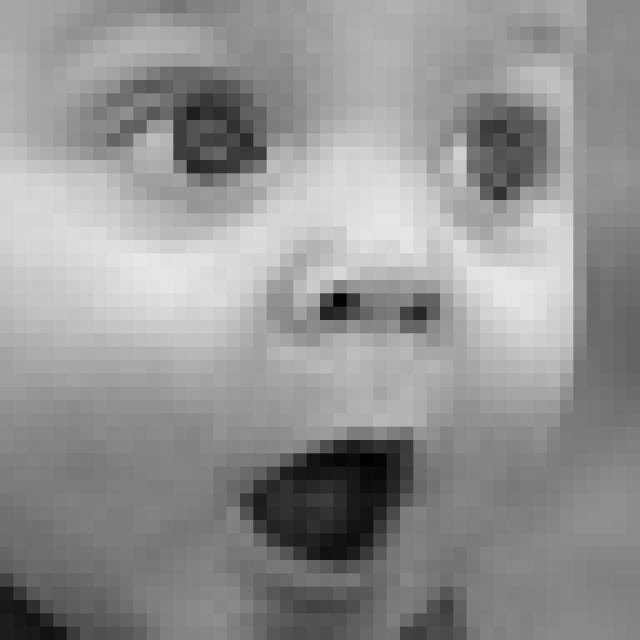surprise: (53, 24, 570, 626)
